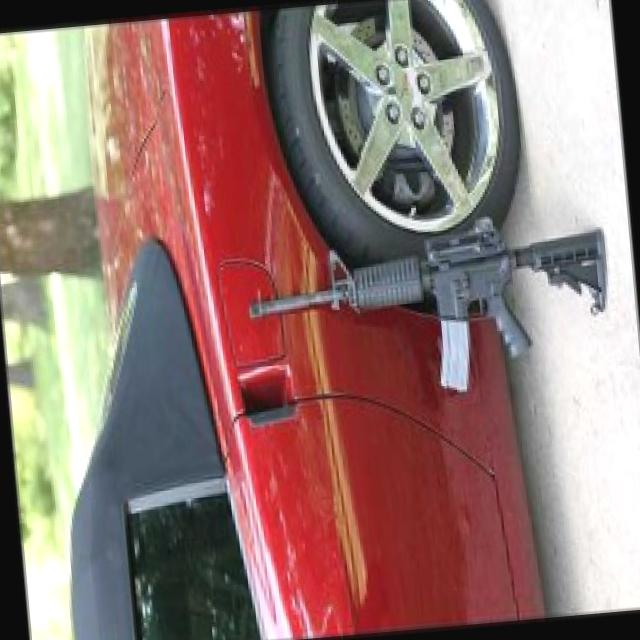long weapon: (221, 202, 634, 390)
